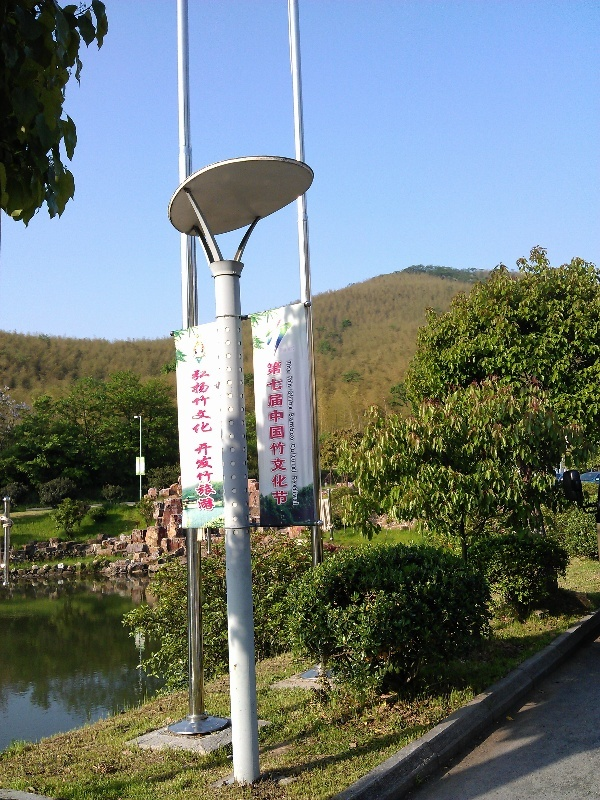text: (273, 361, 288, 506), (264, 361, 272, 506), (193, 370, 208, 435), (195, 442, 208, 513), (209, 442, 218, 513), (289, 361, 292, 506), (290, 444, 304, 474), (291, 476, 304, 506), (209, 370, 214, 435), (289, 412, 297, 441), (190, 370, 192, 435), (289, 390, 295, 411), (279, 346, 288, 354), (289, 376, 294, 388), (289, 346, 296, 354), (289, 360, 293, 374), (286, 360, 288, 374), (286, 376, 288, 388)
